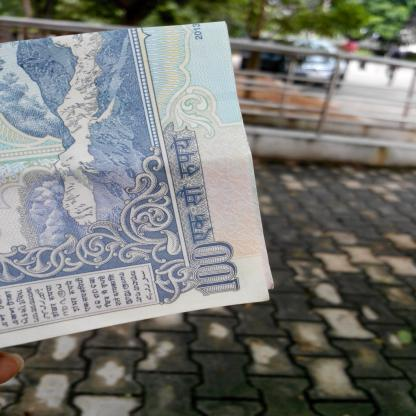Old100Back: (0, 20, 277, 349)
